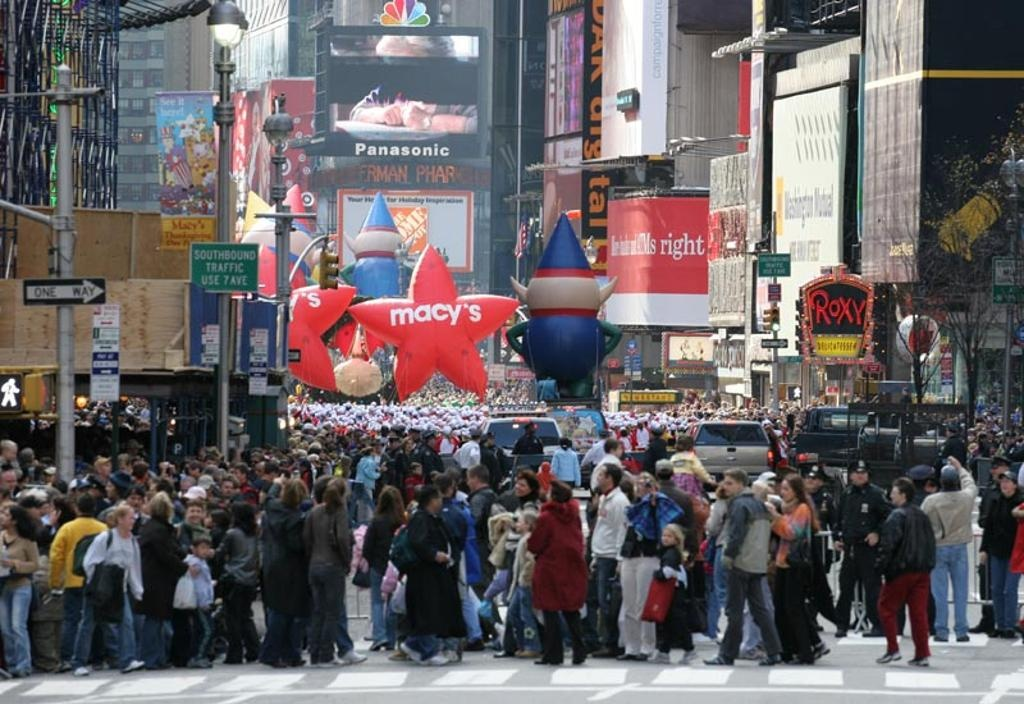human_face: (723, 477, 741, 495), (806, 473, 822, 491), (126, 492, 142, 510), (514, 480, 530, 496), (780, 482, 794, 500), (187, 506, 201, 524), (596, 468, 608, 487), (1000, 476, 1014, 492), (852, 468, 866, 484), (120, 513, 134, 529), (2, 475, 16, 491), (105, 480, 117, 498), (26, 502, 38, 520), (466, 475, 480, 490), (96, 459, 110, 474), (638, 476, 652, 490), (662, 529, 674, 545), (430, 494, 442, 510), (196, 542, 208, 558), (4, 443, 16, 459), (51, 506, 63, 522), (37, 496, 49, 512), (148, 484, 160, 500), (890, 488, 902, 502), (515, 516, 527, 530), (0, 510, 12, 524), (222, 481, 234, 495), (442, 482, 452, 496), (233, 469, 243, 483), (40, 468, 50, 480), (188, 462, 198, 474), (205, 460, 215, 472), (255, 464, 263, 478), (612, 443, 620, 456), (310, 456, 320, 466), (428, 437, 436, 446), (412, 466, 420, 474), (529, 423, 537, 431), (404, 440, 412, 448), (488, 436, 494, 444)
